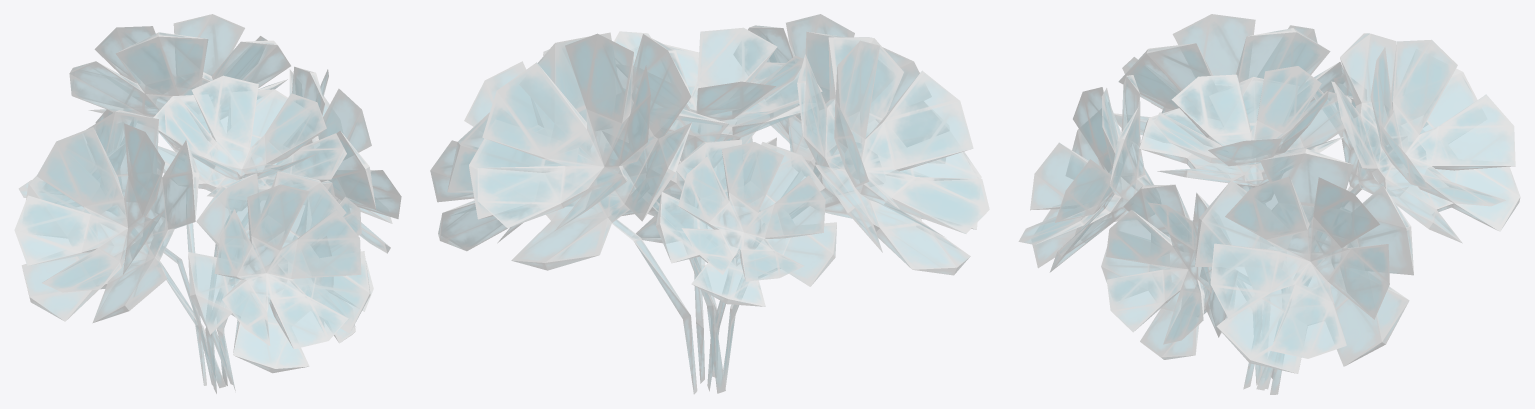
3 views of the same model, side by side, from view 1: azimuth 30°, elevation 25°; view 2: azimuth 150°, elevation 25°; view 3: azimuth 270°, elevation 25° (orthographic). The views are drawn at different scales.
Visible parts, largest first — view 1: ramo diezmadas; view 2: ramo diezmadas; view 3: ramo diezmadas.
Part boxes in pixels (left/top/right/bottom): ramo diezmadas: left=14, top=14, right=401, bottom=393; ramo diezmadas: left=430, top=14, right=989, bottom=394; ramo diezmadas: left=1018, top=14, right=1520, bottom=394.
Bounding box in the file's own units: 0.5037 × 0.4085 × 0.527.
Materials: 1 (1 with a texture image).
